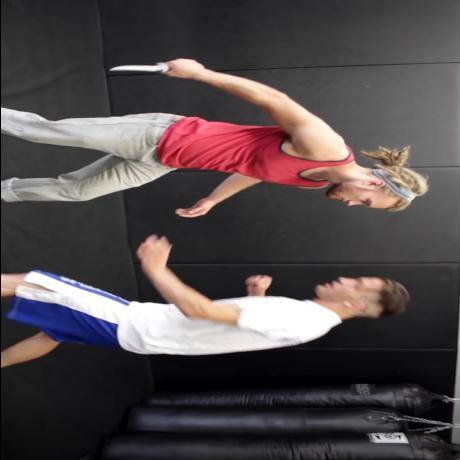1: (0, 57, 429, 219), (0, 234, 410, 371)
weapon: (108, 62, 198, 75)
